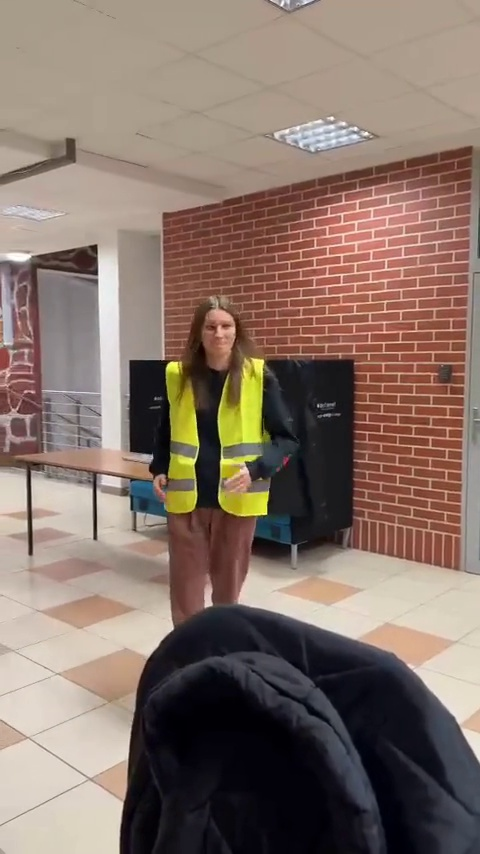vest: (162, 298, 298, 605)
